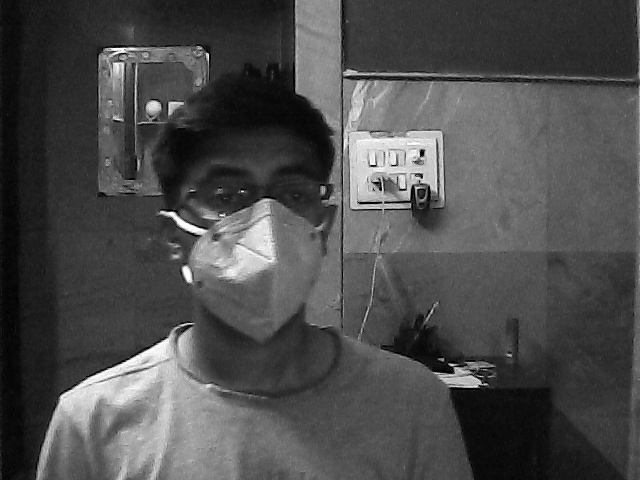mask: (168, 149, 331, 343)
